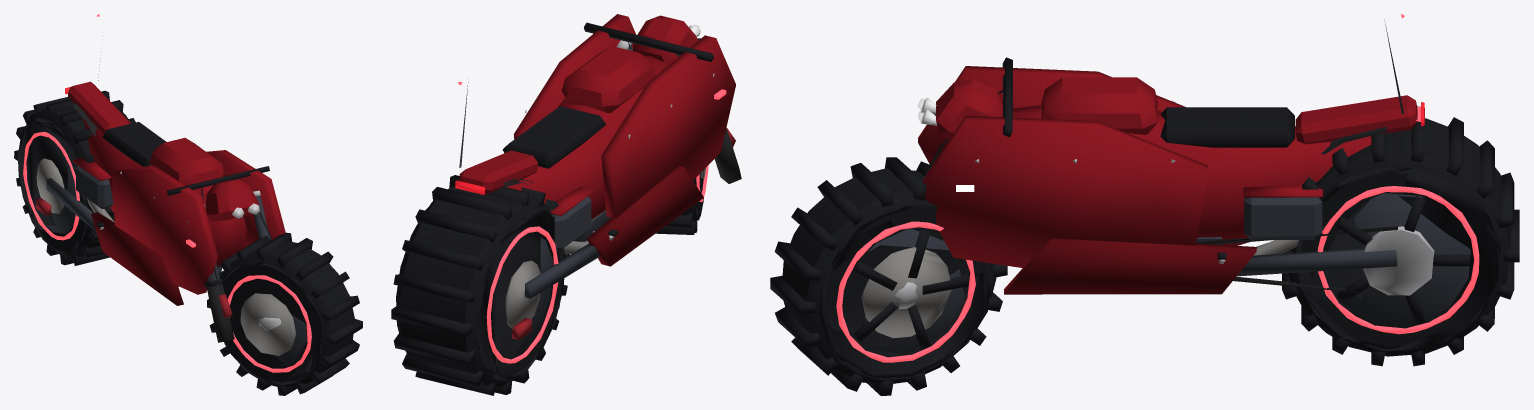
The model's file is CRB1_batcycle_pursuit_lod1.glb.
3 views of the same model, side by side, from view 1: azimuth 30°, elevation 25°; view 2: azimuth 150°, elevation 25°; view 3: azimuth 270°, elevation 25° (orthographic). The views are drawn at different scales.
Visible parts, largest first — view 1: CRB1_batcycle_pursuit_LOD1; view 2: CRB1_batcycle_pursuit_LOD1; view 3: CRB1_batcycle_pursuit_LOD1.
Part boxes in pixels (x1,y1,x2,y2): CRB1_batcycle_pursuit_LOD1: [14, 14, 362, 395]; CRB1_batcycle_pursuit_LOD1: [391, 14, 741, 395]; CRB1_batcycle_pursuit_LOD1: [770, 14, 1519, 395].
Size of the model in its own units: 0.8549 by 1.61 by 3.06.
Materials: 15 (7 with a texture image).
